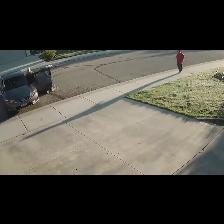person: (176, 50, 184, 72), (27, 68, 33, 75)
